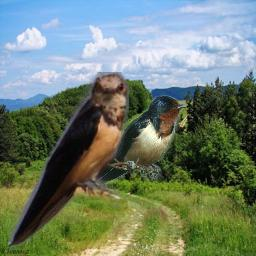Swallow: (8, 72, 129, 252), (74, 95, 187, 184)
